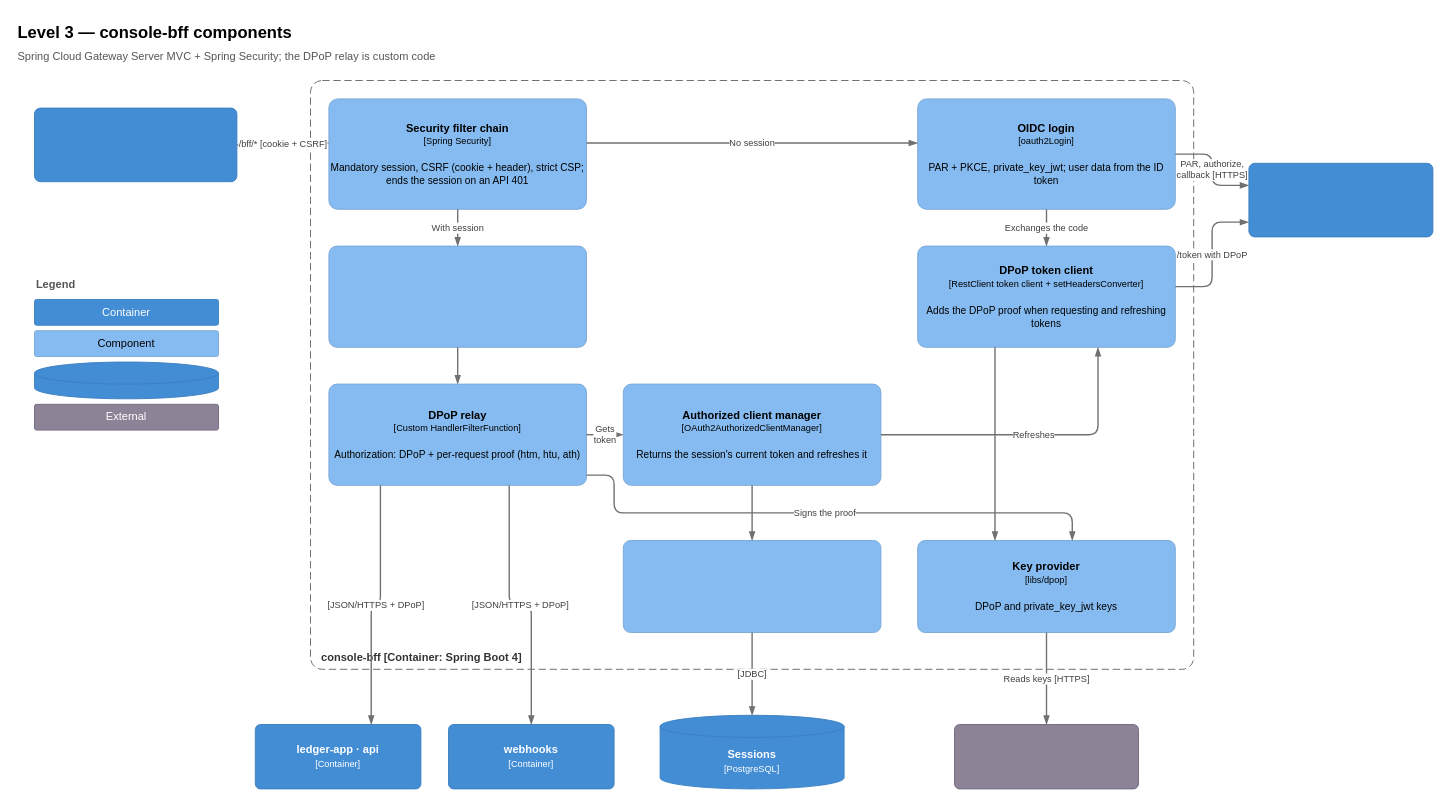
The diagram is 1449 pixels wide and 805 high, and some of its shapes have lost their labels. The centre of each missing label's shape, as x and y in pixels:
auth-server [Container]: (x=1340, y=199)
Database: (x=126, y=380)
Routes [Gateway Server MVC] /bff/api/** → ledger-app /bff/webhooks/** → webhooks: (x=457, y=296)
Secrets Manager [Cloud service]: (x=1046, y=756)
Session [Spring Session JDBC] Stores the user's tokens; 15 min idle, 8 h maximum: (x=751, y=586)
Web console [Container: React]: (x=135, y=144)
